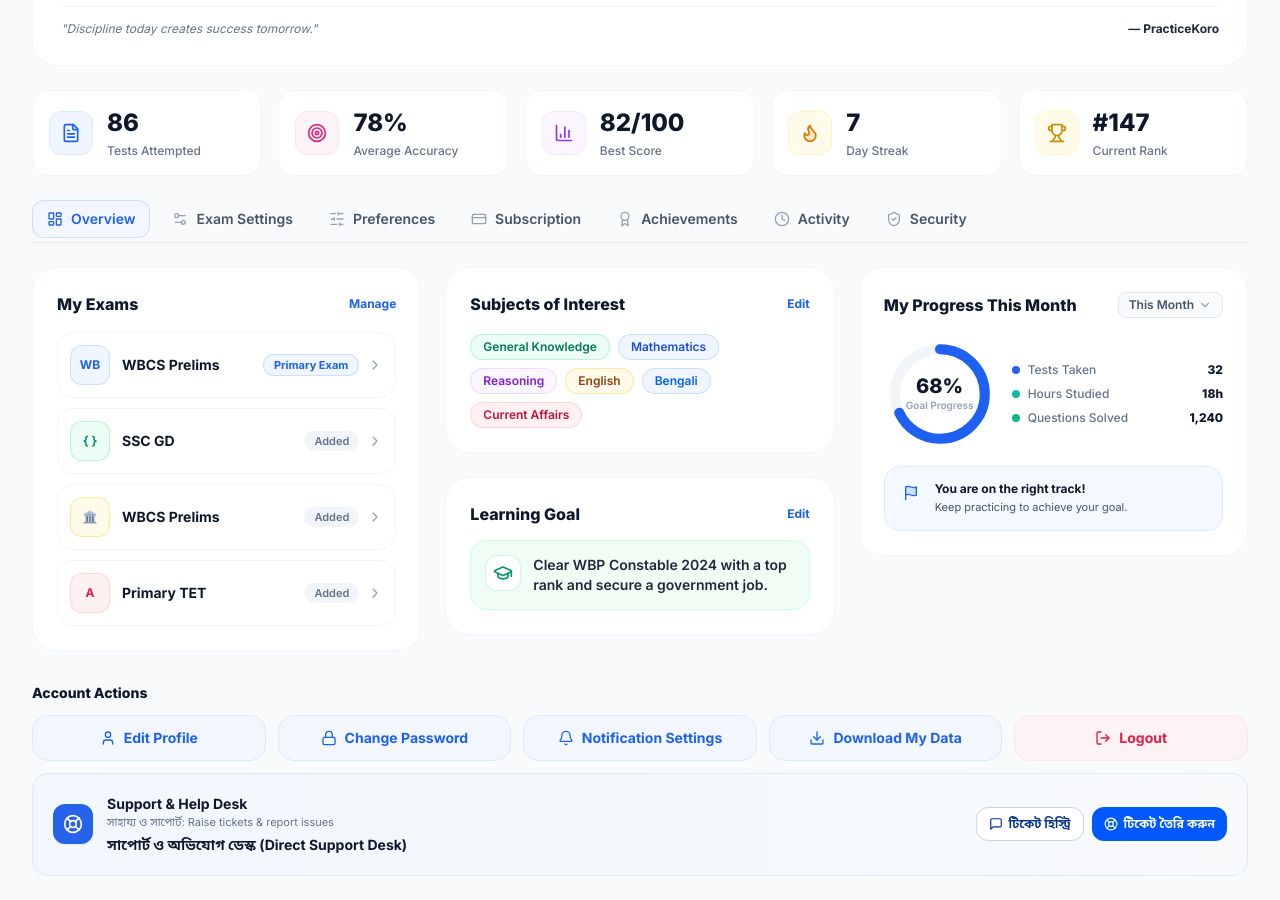
Test: Student Support Intake Integration › opens ticket history tab directly when clicking "Ticket History" in Profile
This screenshot has width=1280, height=900.
(page scrolled)
What coordinates should you click on to do the following:
click the button "টিকেট হিস্ট্রি"
I would click on:
 (1030, 824)
Its box is [976,807,1084,841].
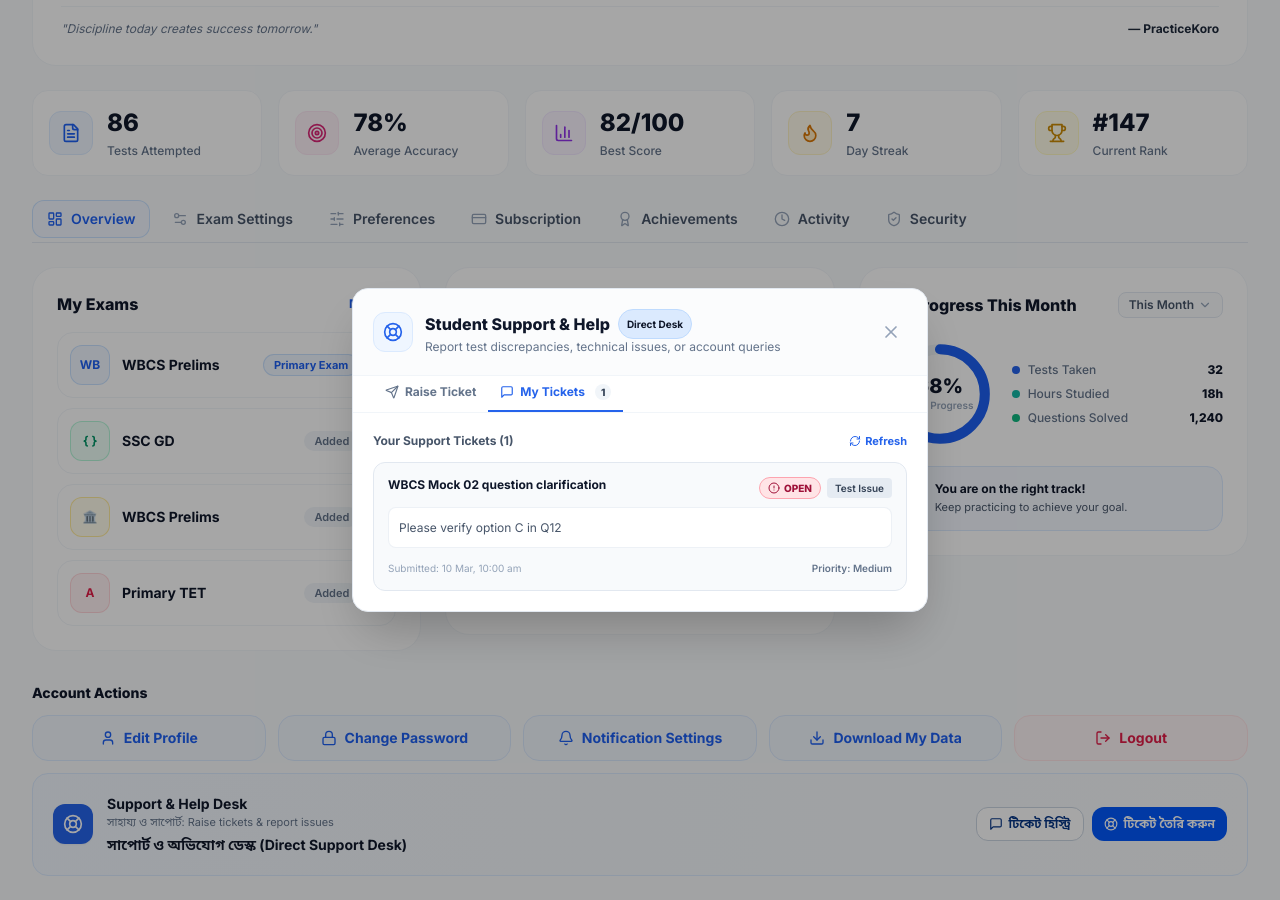
Check: the text "Student Support & Help" is shown, box [425,312,610,336]
Check: the heading "WBCS Mock 02 question clarification" is shown, box [388,476,606,493]
Check: the text "OPEN" is shown, box [759,476,821,498]
